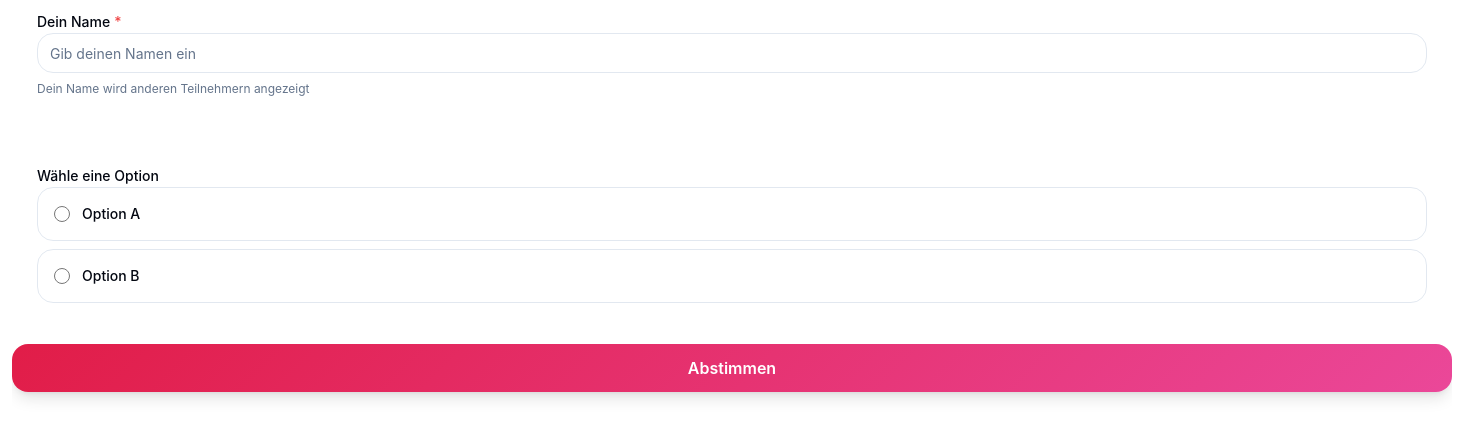
Test: VotingForm › shows validation error when submitting without a name
Click the button "Abstimmen" at (732, 368), box x1=12 y1=344 x2=1452 y2=392
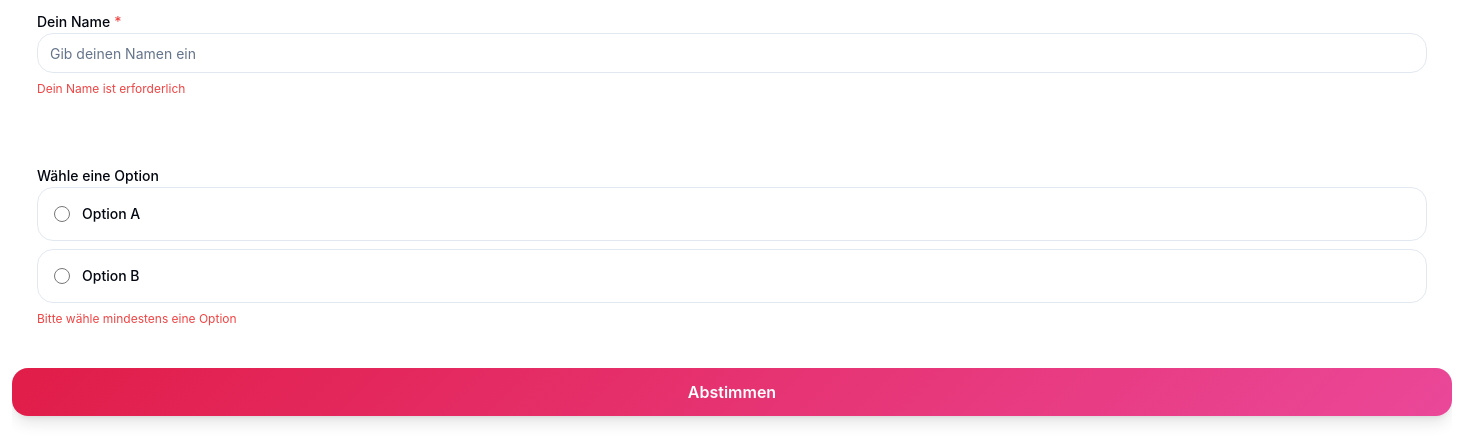
Expected: the text "Dein Name ist erforderlich" is shown, x1=37 y1=81 x2=185 y2=96
